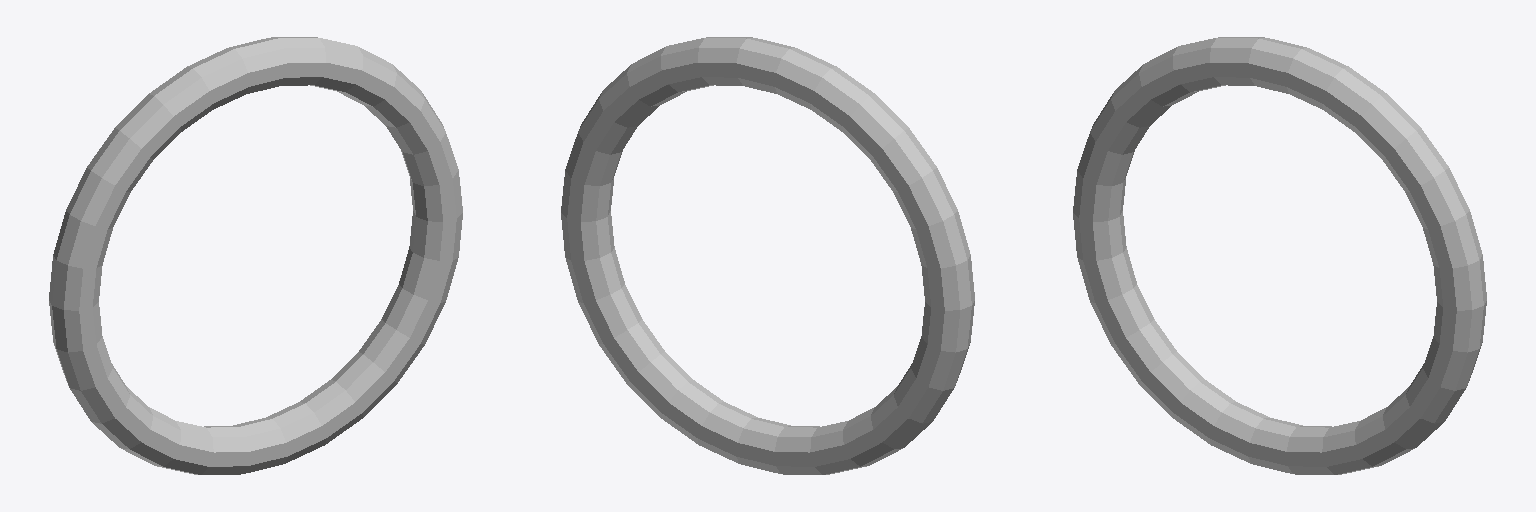
The model's file is steerWheel.obj.
The picture shows the model from 3 angles: view 1: azimuth 30°, elevation 25°; view 2: azimuth 150°, elevation 25°; view 3: azimuth 330°, elevation 25°; orthographic projection.
Visible parts, largest first — view 1: Torus.004; view 2: Torus.004; view 3: Torus.004.
Boxes of the visible parts, box(x1,y1,x2,y2) form: Torus.004: box(49, 37, 462, 474); Torus.004: box(561, 37, 974, 474); Torus.004: box(1073, 37, 1486, 474).
Bounding box in the file's own units: 2.24 × 2.23 × 0.2283.